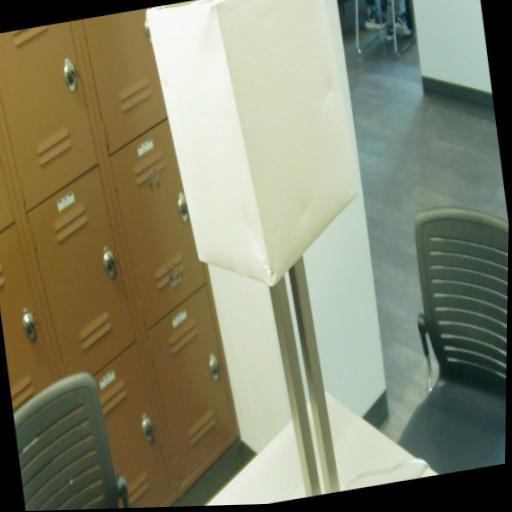lamp: (137, 0, 399, 508)
